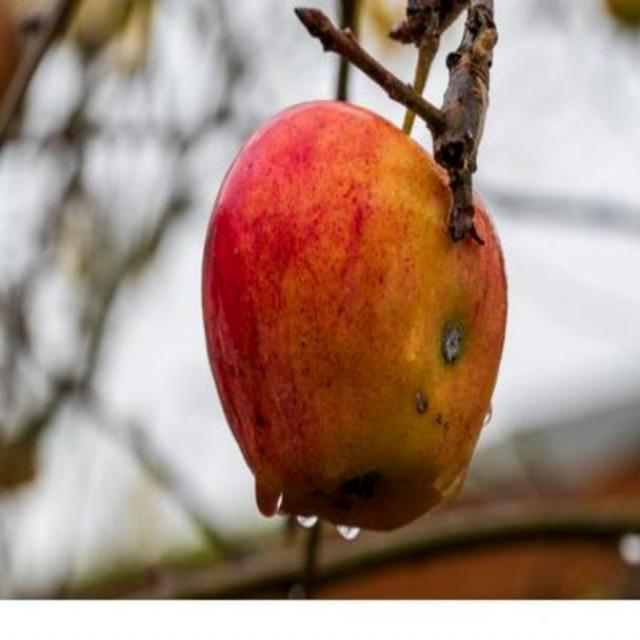ROT: (187, 77, 527, 552)
